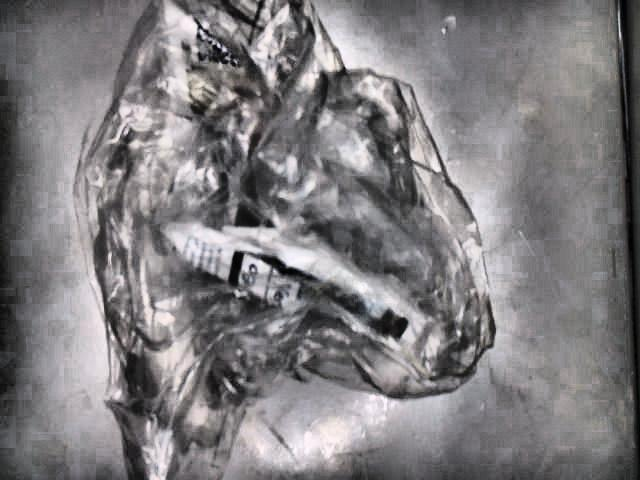Plastic: (68, 0, 499, 480)
